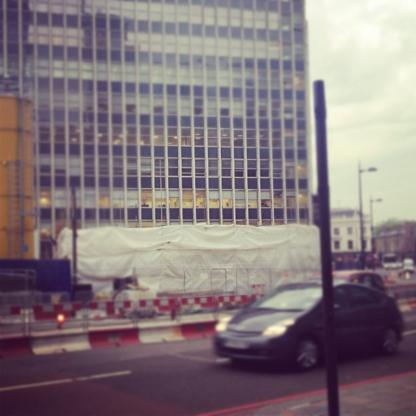Car: (197, 272, 416, 376)
